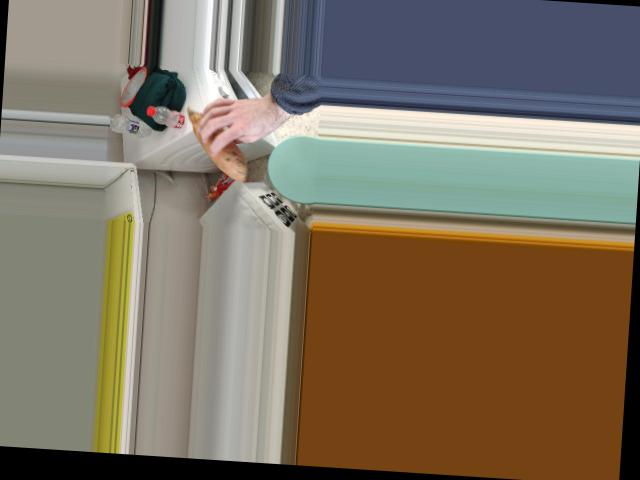sweet_potato: (185, 103, 250, 177)
